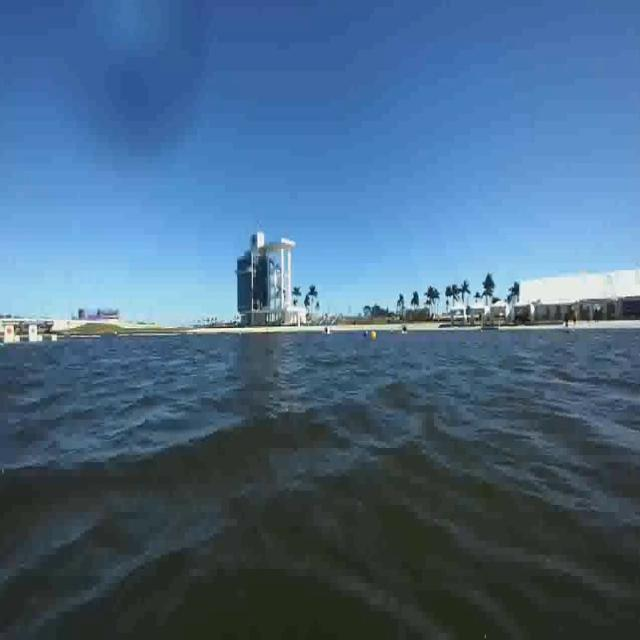yellow-buoy: (369, 331, 376, 343)
